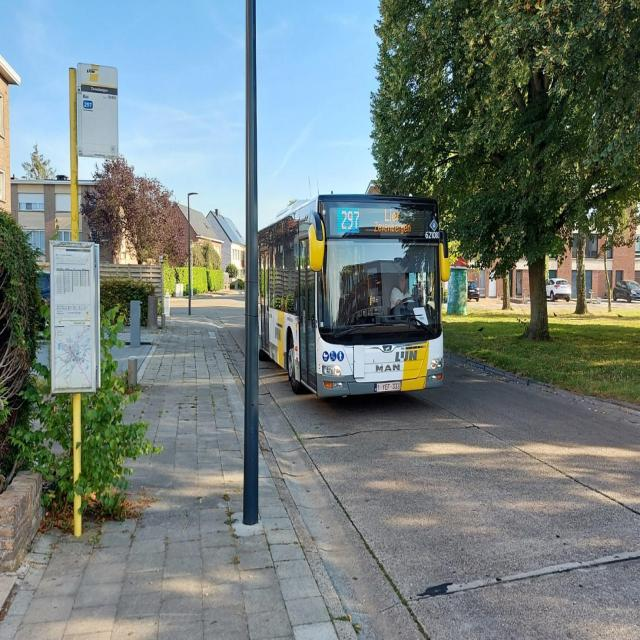bus-number: (339, 206, 361, 233)
